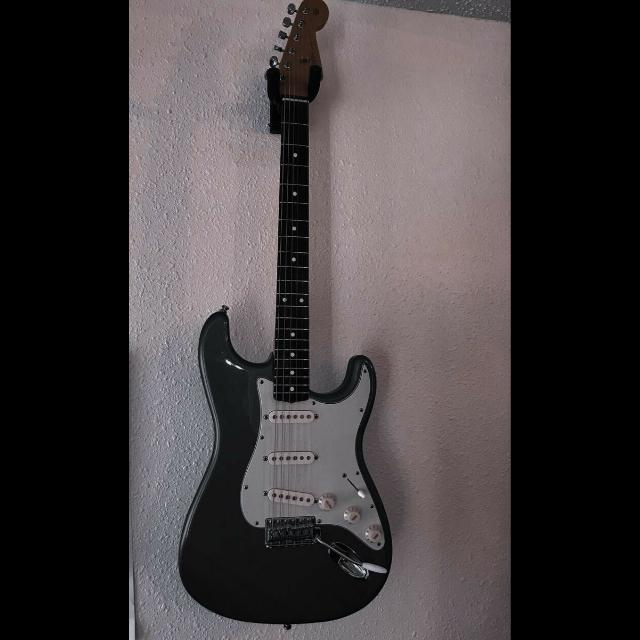Electric-Guitar: (152, 0, 412, 634)
